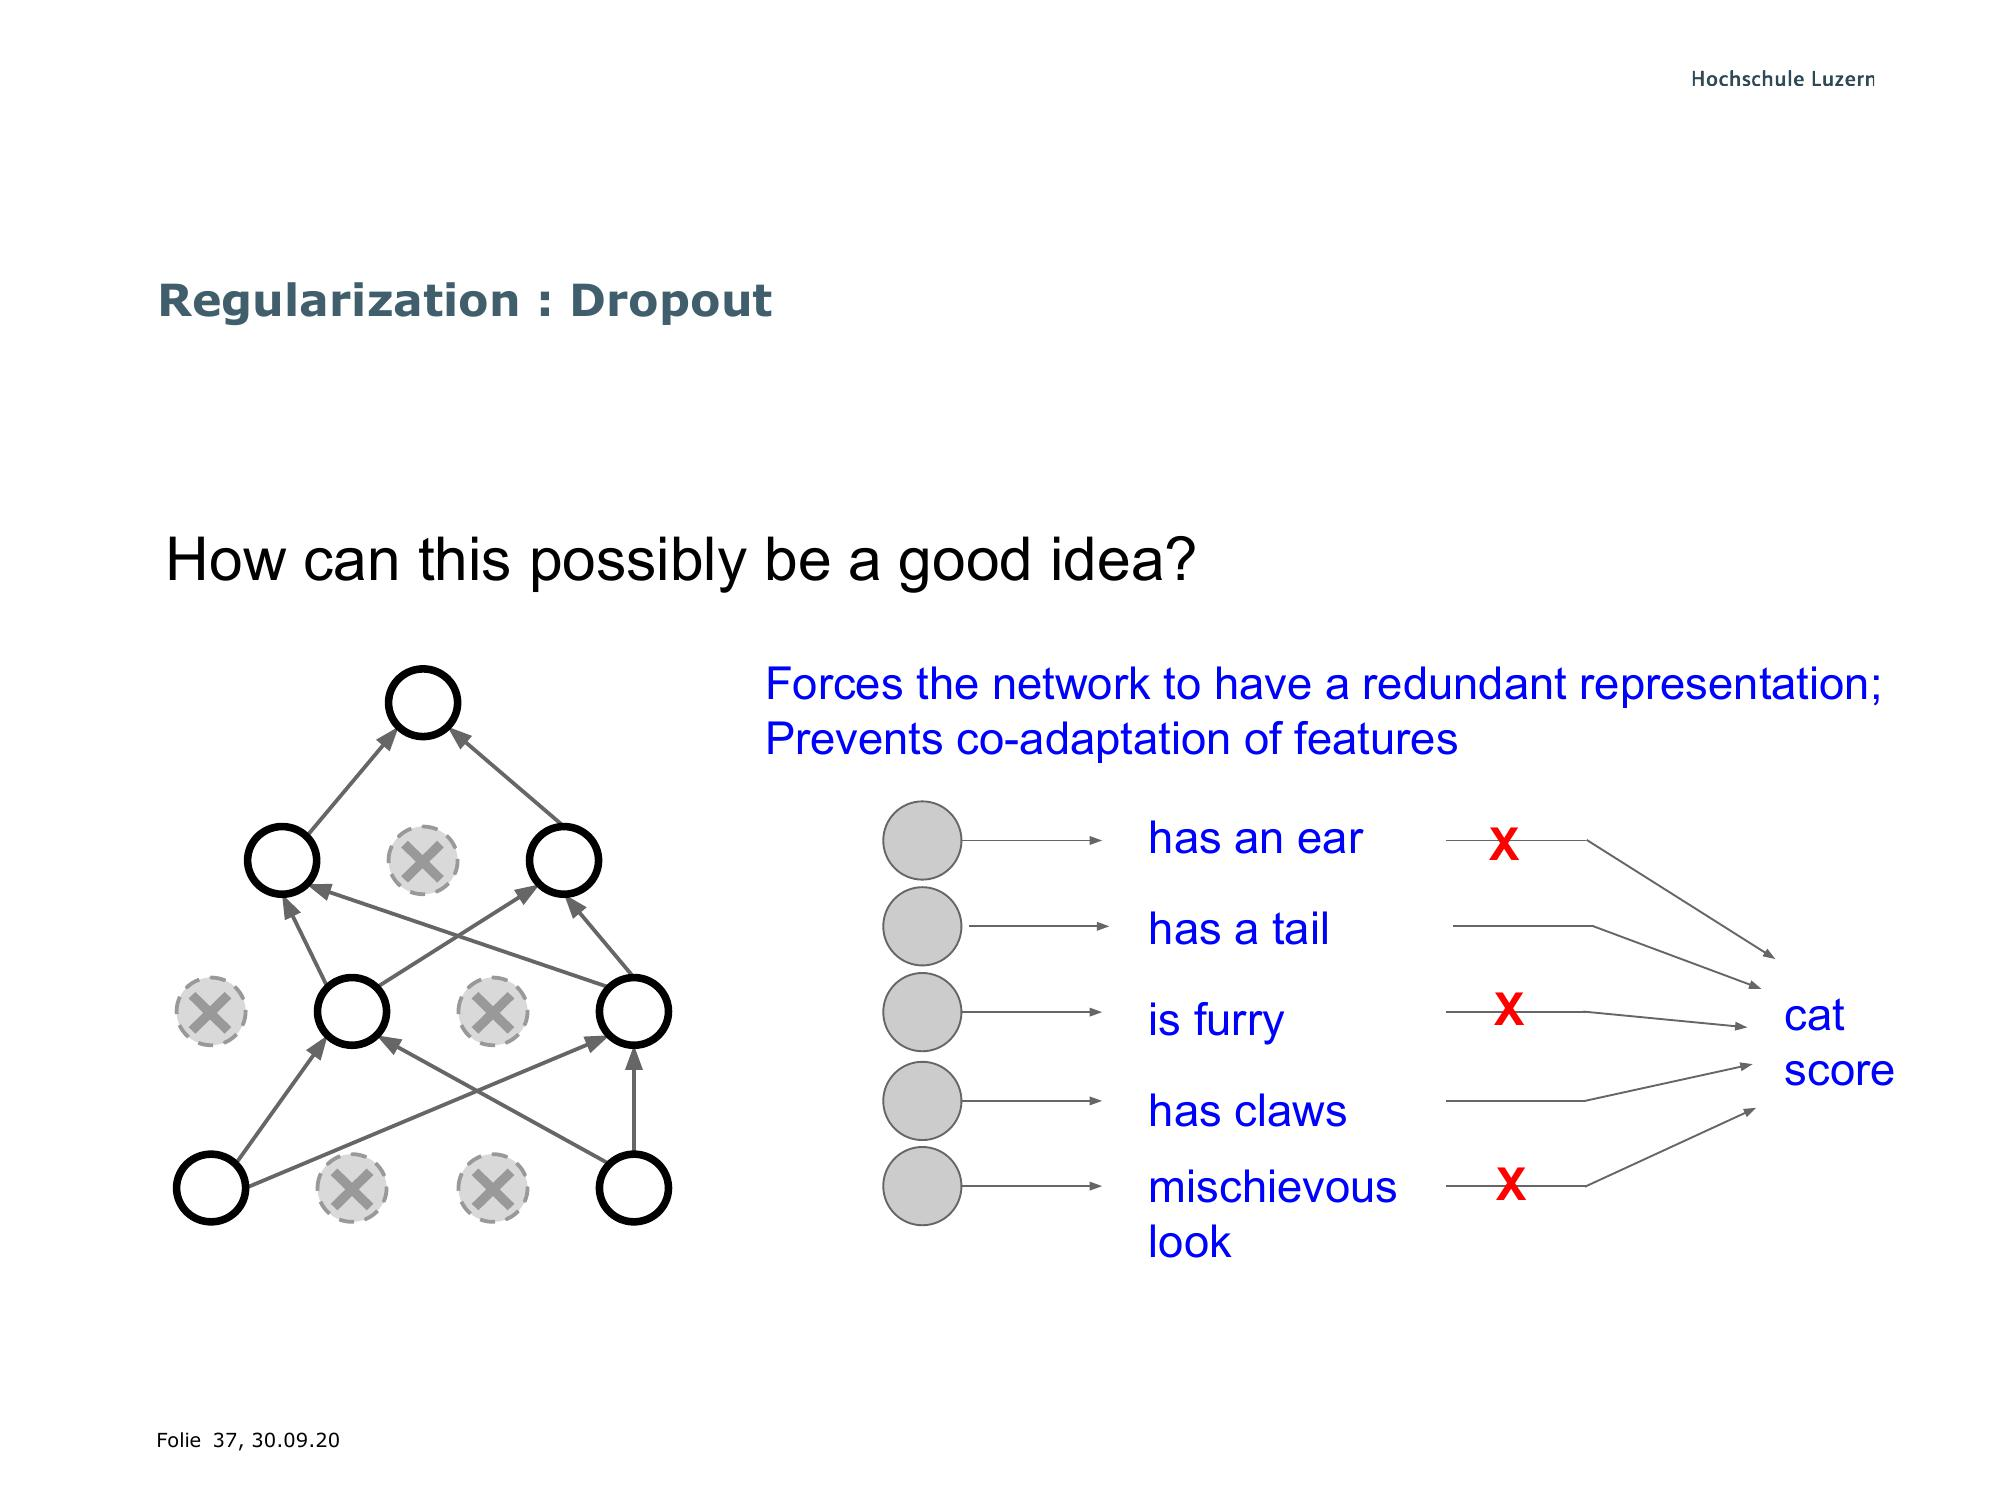Title: (139, 251, 803, 342)
